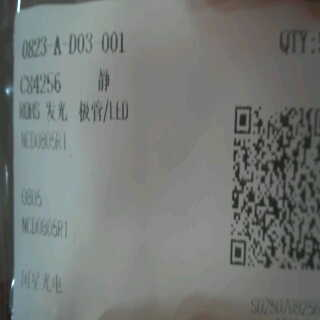LED: (40, 97, 142, 124)
